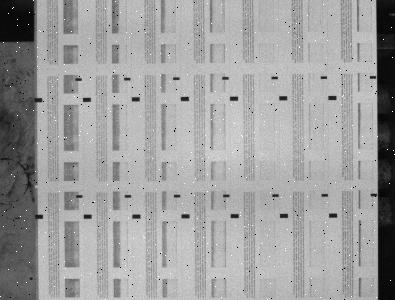backgroundclutter: (34, 185, 39, 189), (30, 277, 33, 280)
qblock: (328, 95, 337, 100), (329, 213, 338, 218), (132, 214, 141, 219), (35, 214, 43, 219), (181, 96, 189, 101), (83, 97, 91, 102), (230, 96, 238, 101), (84, 214, 92, 219), (280, 213, 288, 218), (131, 97, 140, 101), (279, 96, 288, 100), (181, 214, 190, 218), (34, 98, 42, 102), (231, 214, 239, 218)
smallqblock: (222, 76, 229, 80), (76, 194, 83, 198), (125, 194, 131, 198), (272, 194, 279, 197), (223, 194, 230, 197), (174, 194, 181, 197), (321, 193, 328, 196), (124, 77, 131, 80), (271, 76, 278, 79), (321, 76, 328, 79), (173, 77, 180, 80), (75, 78, 82, 81), (370, 193, 377, 196), (370, 76, 377, 79)
